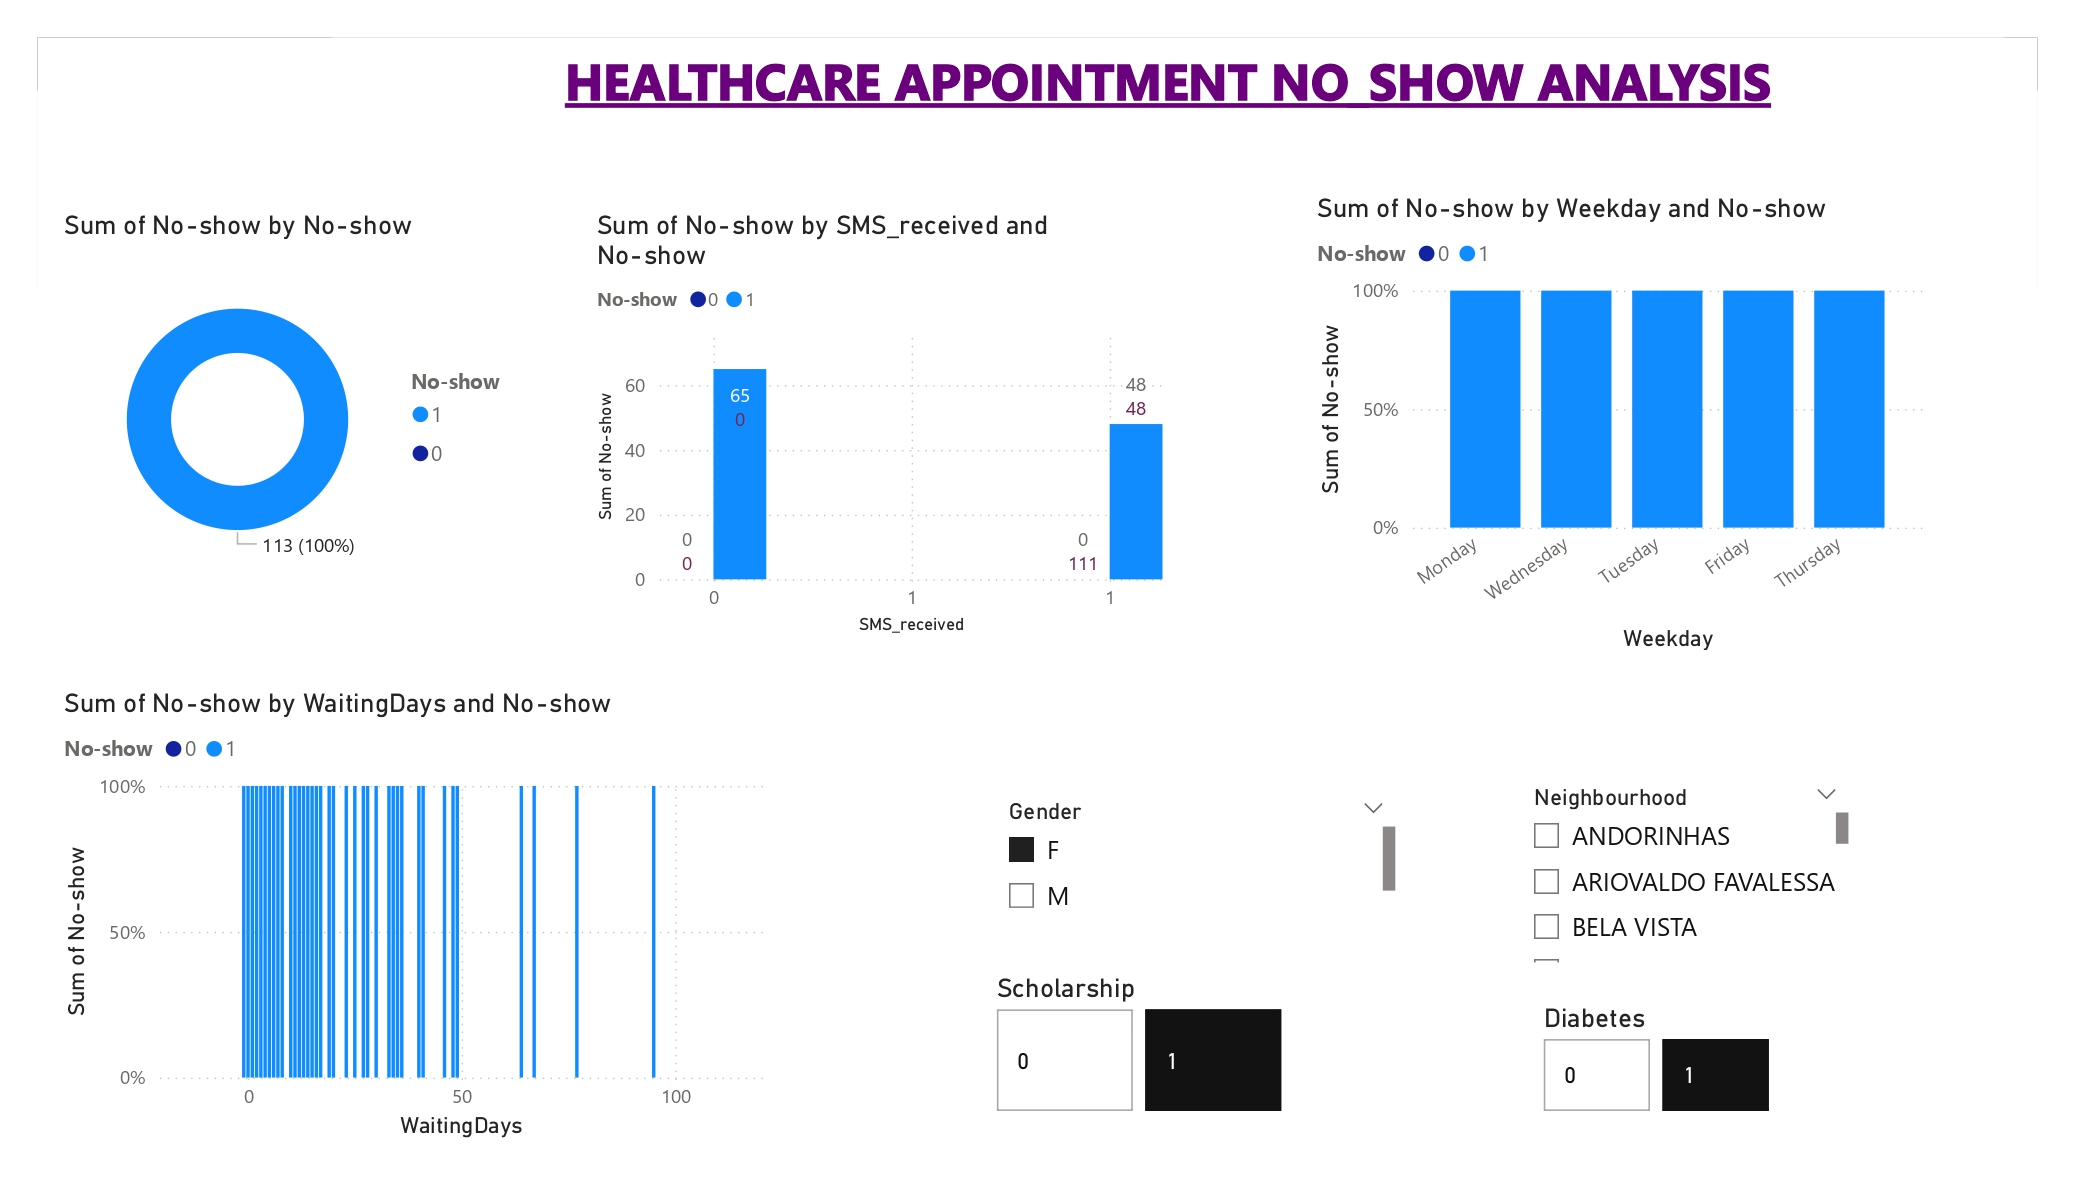

Layout of this report page (visuals, bound fields, positions):
{"tool":"powerbi","page":{"name":"Page 1","canvas":[1280,720],"ordinal":0},"visuals":[{"type":"donutChart","fields":{"Category":["cleaned_appointments.No-show"],"Y":["Sum(cleaned_appointments.No-show)"]},"box":[12.3,109.8,307.4,249.7],"z":0},{"type":"clusteredColumnChart","fields":{"Category":["cleaned_appointments.SMS_received"],"Y":["Sum(cleaned_appointments.No-show)"],"Series":["cleaned_appointments.No-show"]},"box":[352.7,109.8,371.9,277.2],"z":1000},{"type":"hundredPercentStackedColumnChart","fields":{"Category":["cleaned_appointments.Weekday"],"Series":["cleaned_appointments.No-show"],"Y":["Sum(cleaned_appointments.No-show)"]},"box":[813.7,98.8,397.9,297.8],"z":2000},{"type":"hundredPercentStackedColumnChart","fields":{"Category":["cleaned_appointments.WaitingDays"],"Series":["cleaned_appointments.No-show"],"Y":["Sum(cleaned_appointments.No-show)"]},"box":[12.3,415.8,466.6,293.7],"z":3000},{"type":"slicer","fields":{"Values":["cleaned_appointments.Gender"]},"box":[609.3,481.6,264.8,81],"z":4000},{"type":"advancedSlicerVisual","fields":{"Values":["cleaned_appointments.Scholarship"]},"box":[609.3,598.3,288.2,94.7],"z":5000},{"type":"slicer","fields":{"Values":["cleaned_appointments.Neighbourhood"]},"box":[945.5,473.4,218.2,124.9],"z":6000},{"type":"advancedSlicerVisual","fields":{"Values":["cleaned_appointments.Diabetes"]},"box":[959.2,617.5,231.9,75.5],"z":7000},{"type":"textbox","box":[189.4,0,1069,70],"z":8000}]}

Visuals, with their boxes in screenshot pixels (x1, y1, x2, y2):
donutChart - cleaned_appointments.No-show x Sum(cleaned_appointments.No-show): 57/209/537/599
clusteredColumnChart - cleaned_appointments.SMS_received x Sum(cleaned_appointments.No-show): 589/209/1170/642
hundredPercentStackedColumnChart - cleaned_appointments.Weekday x cleaned_appointments.No-show: 1309/192/1931/657
hundredPercentStackedColumnChart - cleaned_appointments.WaitingDays x cleaned_appointments.No-show: 57/687/786/1146
slicer - cleaned_appointments.Gender: 990/790/1403/917
advancedSlicerVisual - cleaned_appointments.Scholarship: 990/972/1440/1120
slicer - cleaned_appointments.Neighbourhood: 1515/777/1856/972
advancedSlicerVisual - cleaned_appointments.Diabetes: 1536/1002/1899/1120
textbox: 333/38/2004/147
